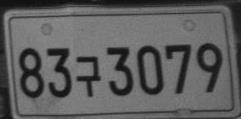0: (137, 45, 164, 96)
3: (106, 46, 133, 96), (46, 47, 72, 97)
7: (164, 43, 191, 94)
8: (18, 46, 44, 98)
9: (195, 41, 223, 93)
구: (75, 55, 101, 97)
